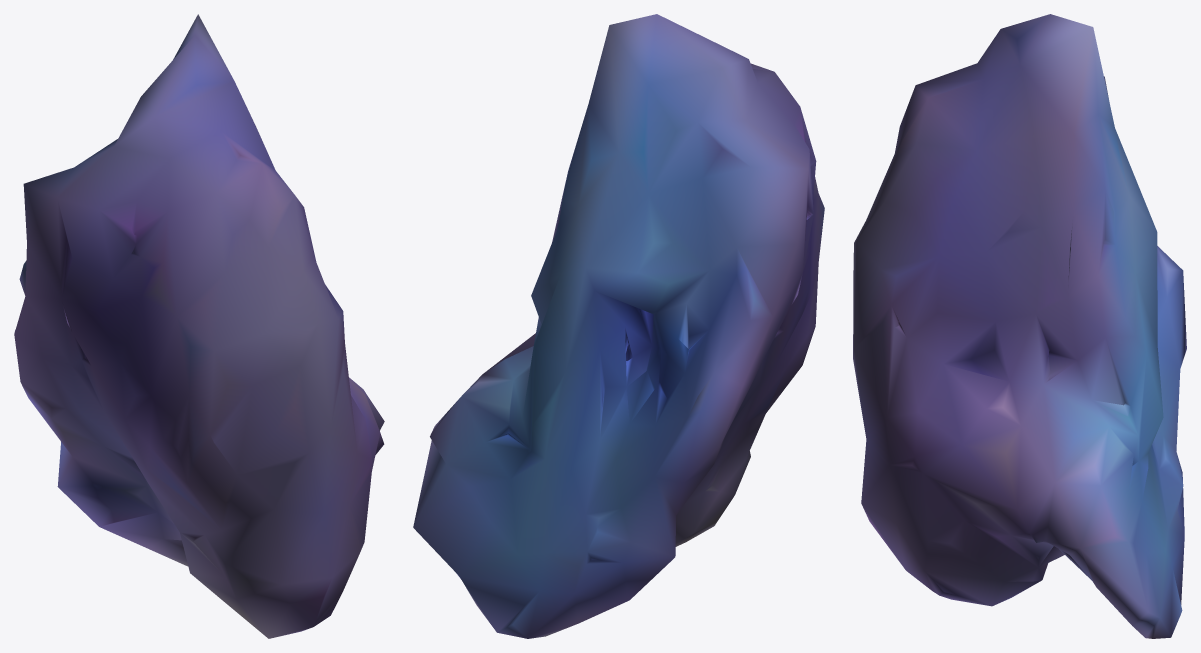
File: fragmento_sol.glb
3 renders of one model, left to right at view 1: azimuth 30°, elevation 25°; view 2: azimuth 150°, elevation 25°; view 3: azimuth 270°, elevation 25°, orthographic. The views are drawn at different scales.
Bounding box in the file's own units: 0.6613 × 1.04 × 0.5463.
